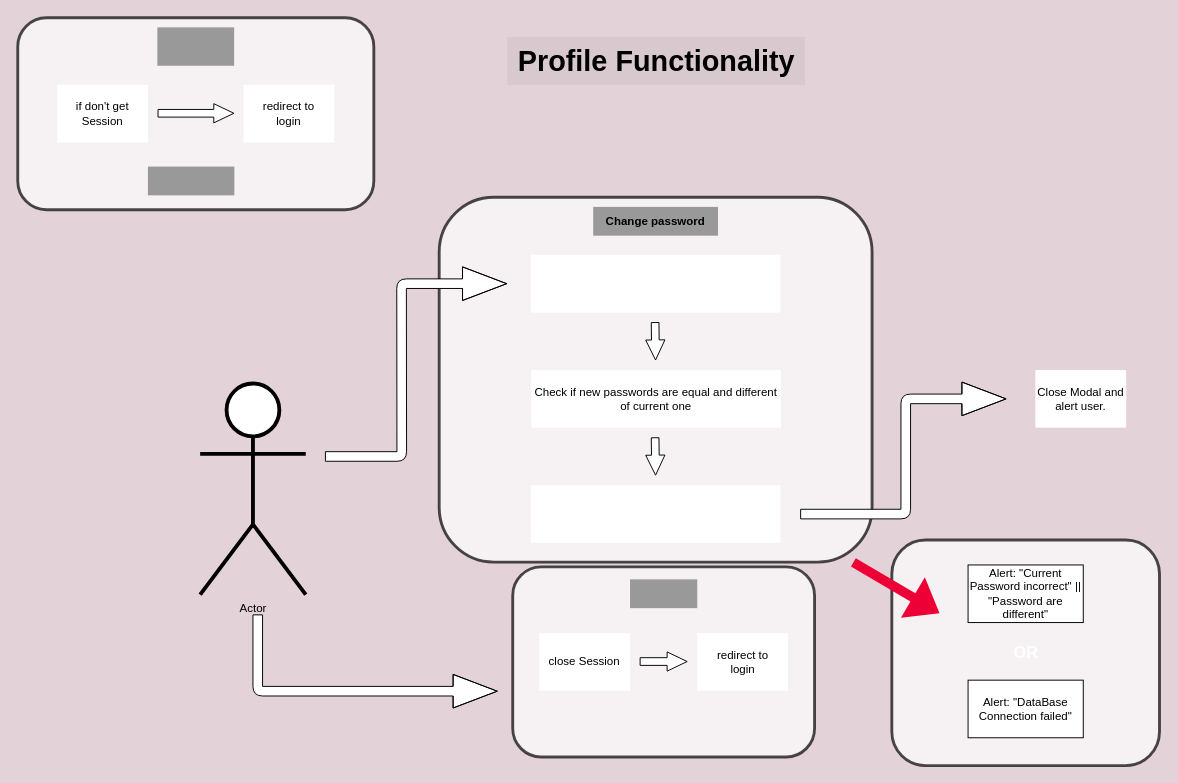
Image size: 1178x783. Some labels were removed from this diagram. Here are the shapes that lost their labels. From the top down, the centre of each, then its label:
point 195,46: Security AppFilter
point 190,180: use = /app/*
point 655,283: Check the current password is correct
point 655,513: Encrypt password and persist data to DB
point 663,593: Sign out
